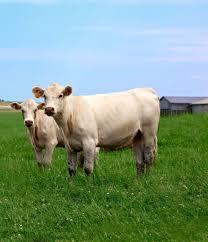cow: (32, 83, 160, 178), (10, 98, 70, 170)
